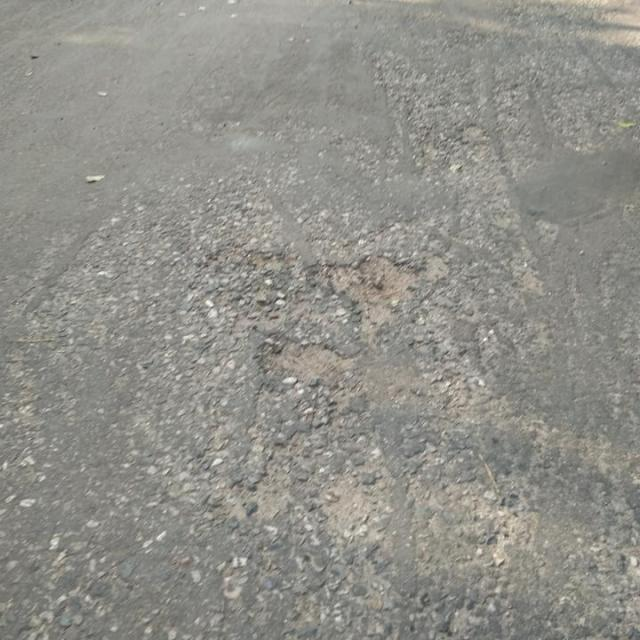pothole: (328, 252, 421, 332), (262, 335, 348, 382)
